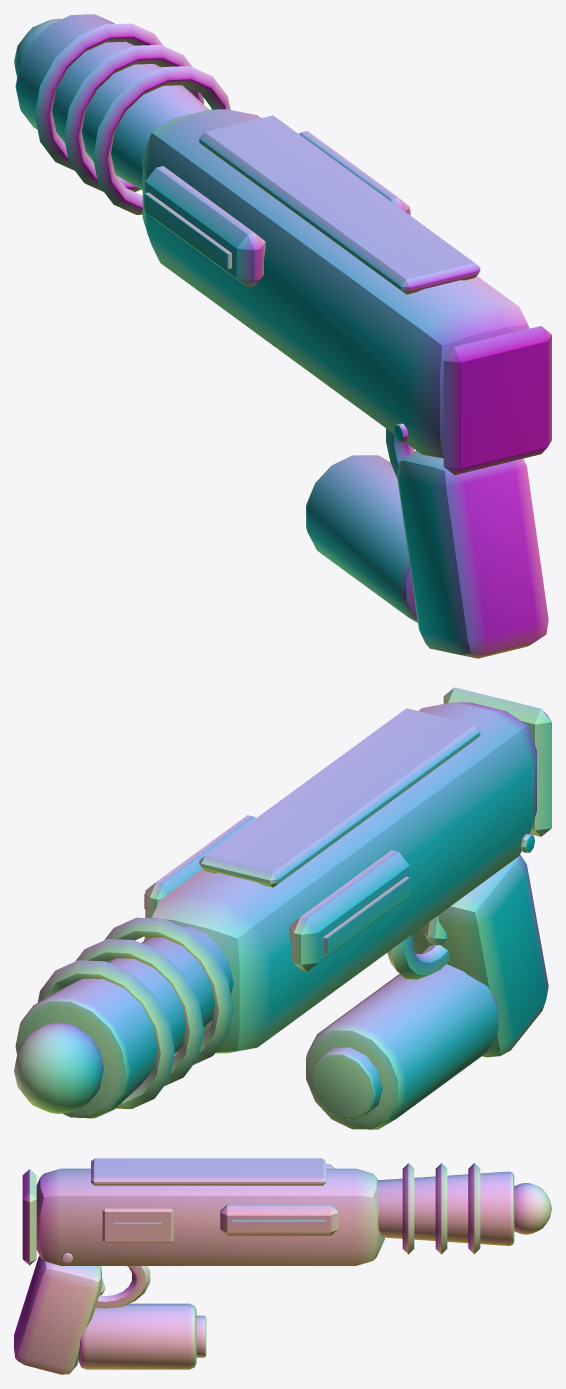
Rendered from wpn_laser.glb.
3 views of the same model, one above another, from view 1: azimuth 30°, elevation 25°; view 2: azimuth 150°, elevation 25°; view 3: azimuth 270°, elevation 25° (orthographic). The views are drawn at different scales.
Parts seen in each view (by area): view 1: wpn_laser_mesh; view 2: wpn_laser_mesh; view 3: wpn_laser_mesh.
Boxes of the visible parts, box(x1,y1,x2,y2) form: wpn_laser_mesh: box(14, 14, 551, 658); wpn_laser_mesh: box(14, 687, 551, 1129); wpn_laser_mesh: box(14, 1158, 551, 1374).
Bounding box in the file's own units: 0.0508 × 0.0937 × 0.2287.
